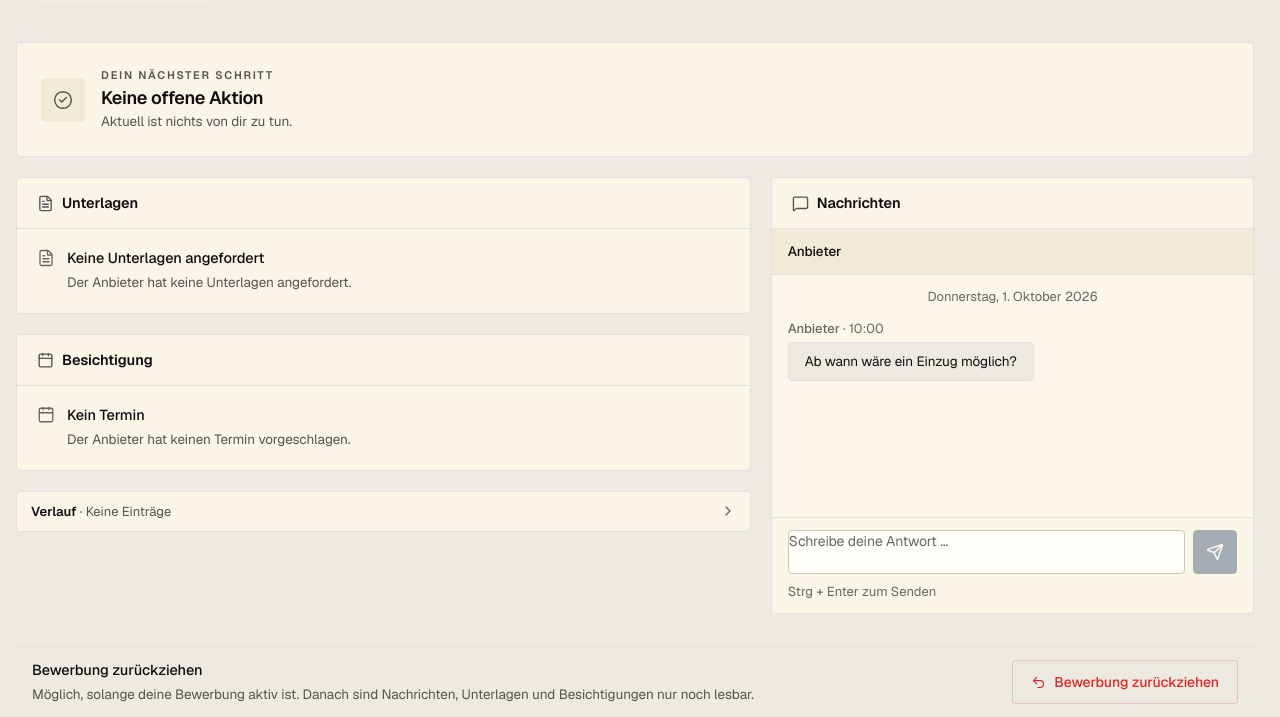
Test: conversation revalidation › preserves the draft but blocks the old action after a conflict
(page scrolled)
Type "Entwurf behalten" into the text box named "Antwort an den Anbieter" at (986, 552), box [788, 530, 1185, 574]
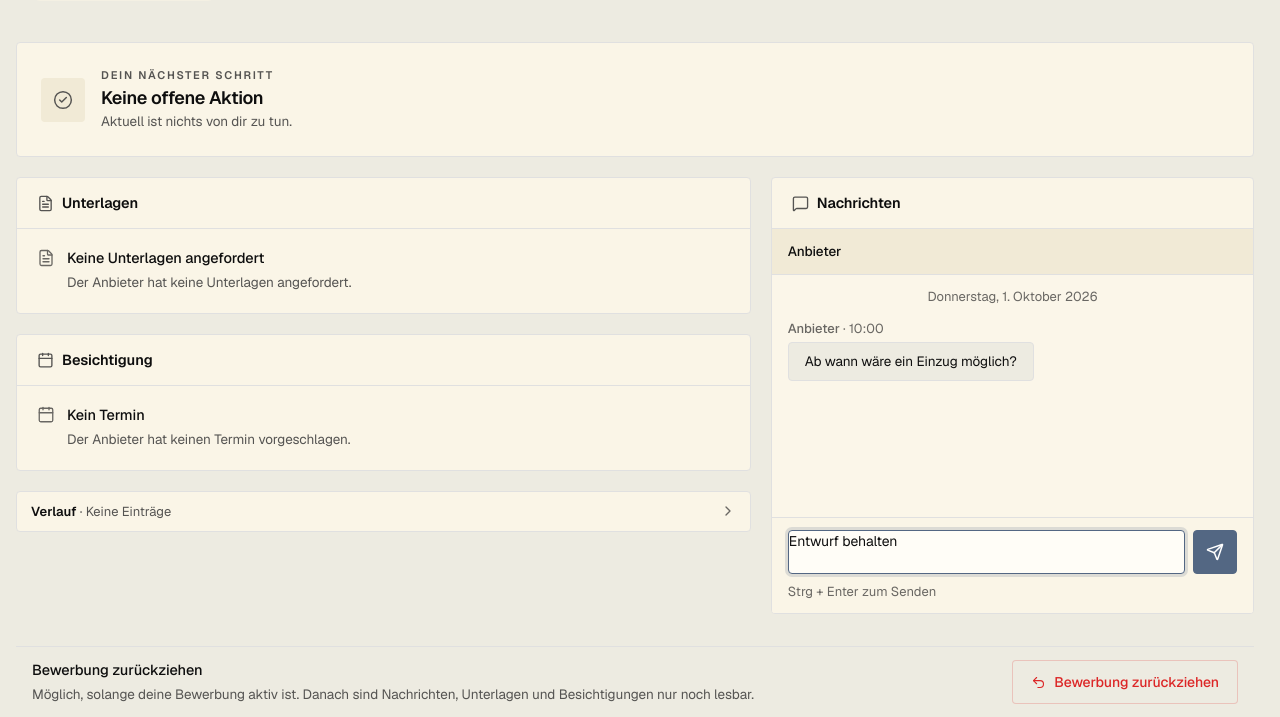
Click the button named "Senden" at (1215, 552), box [1193, 530, 1237, 574]
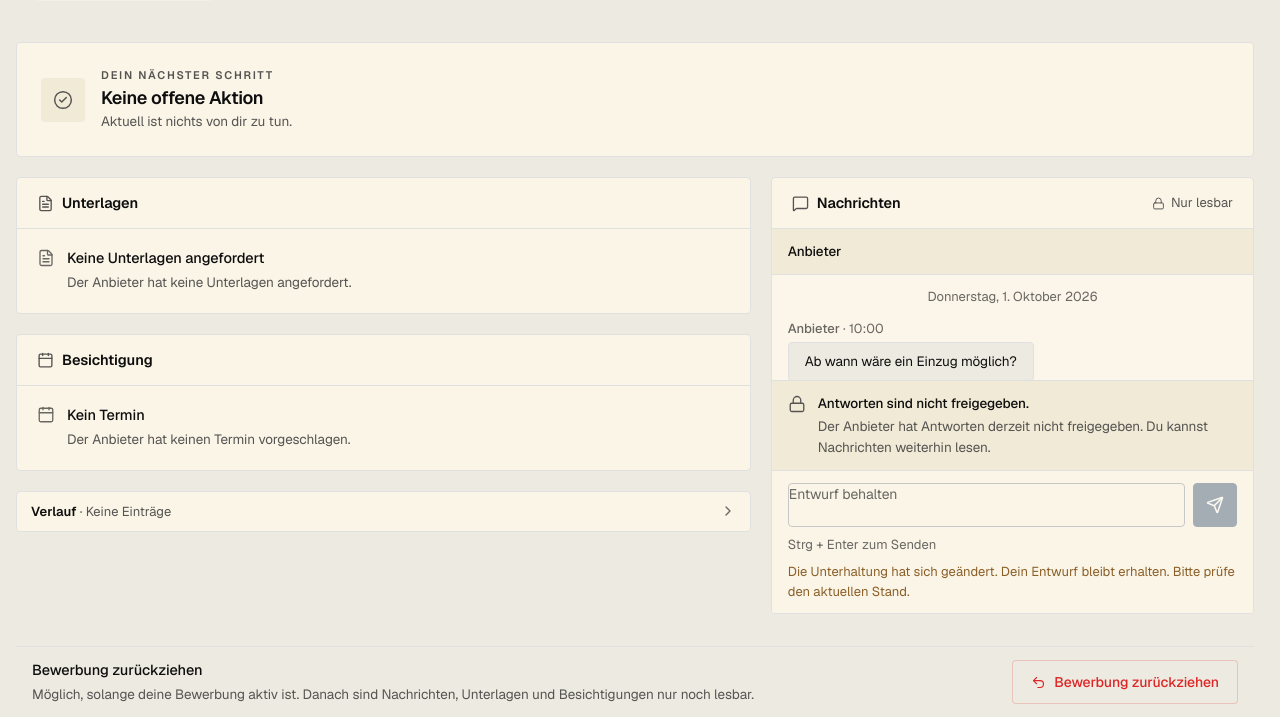
Now the text "Die Unterhaltung hat sich geändert. Dein Entwurf bleibt erhalten. Bitte prüfe den aktuellen Stand." is shown, box [788, 563, 1235, 600]
Now the button named "Senden" is disabled, box [1193, 483, 1237, 527]
